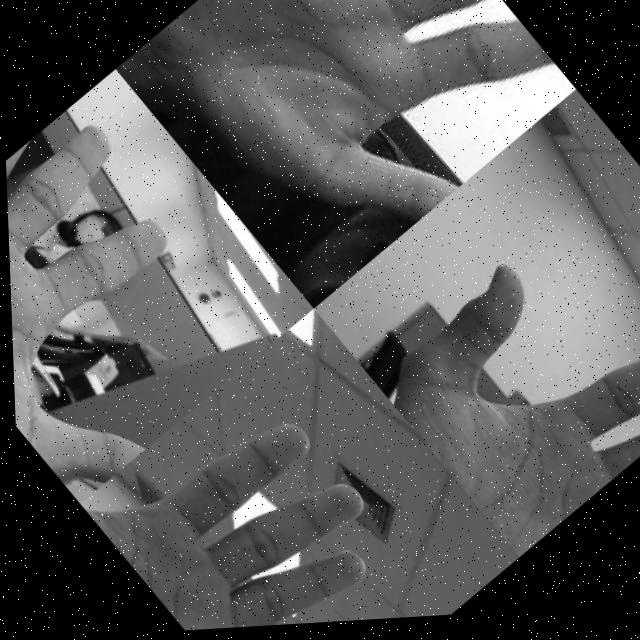hand: (139, 0, 581, 300), (3, 93, 277, 507), (71, 353, 453, 637), (359, 197, 640, 571)
